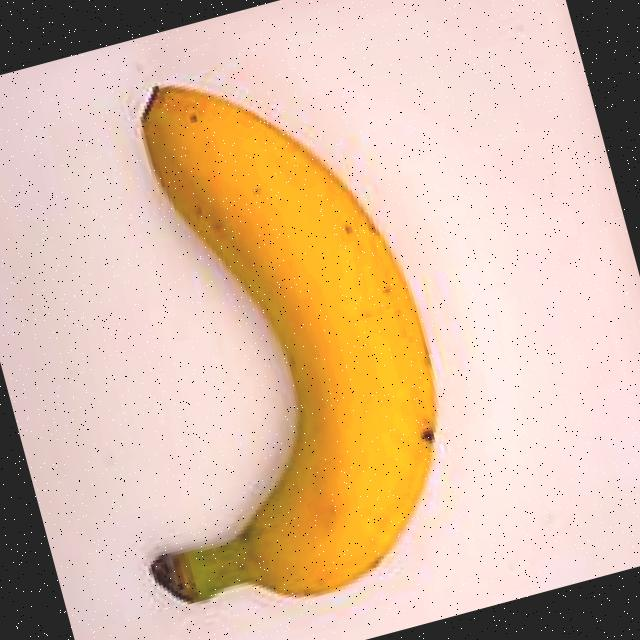Ripe: (29, 18, 512, 640)
